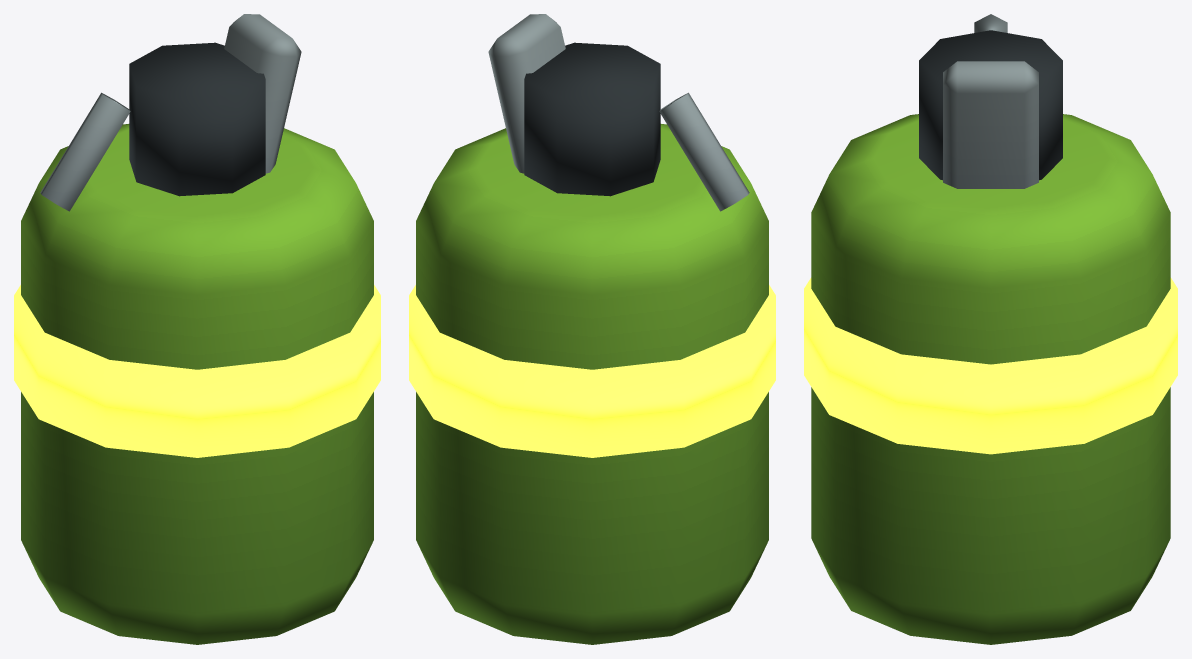
The model's file is weapon_poisonBomb.glb.
3 views of the same model, side by side, from view 1: azimuth 30°, elevation 25°; view 2: azimuth 150°, elevation 25°; view 3: azimuth 270°, elevation 25° (orthographic).
Parts seen in each view (by area): view 1: Gas canister, Toxic band, Fuse head.001, Safety lever.001, Pull ring.001; view 2: Gas canister, Toxic band, Fuse head.001, Safety lever.001, Pull ring.001; view 3: Gas canister, Toxic band, Safety lever.001, Fuse head.001.
Part boxes in pixels (box(x1,y1,x2,y2)): Gas canister: box(21, 124, 373, 644); Toxic band: box(14, 285, 380, 457); Fuse head.001: box(129, 42, 265, 196); Safety lever.001: box(224, 14, 301, 173); Pull ring.001: box(40, 92, 130, 211); Gas canister: box(416, 124, 768, 644); Toxic band: box(409, 285, 775, 457); Fuse head.001: box(524, 42, 660, 196); Safety lever.001: box(488, 14, 565, 173); Pull ring.001: box(659, 92, 749, 211); Gas canister: box(811, 114, 1170, 644); Toxic band: box(804, 277, 1177, 454); Safety lever.001: box(943, 61, 1038, 188); Fuse head.001: box(919, 30, 1062, 180).
Size of the model in its own units: 0.156 by 0.2591 by 0.156.
4 materials, 3 textured.
